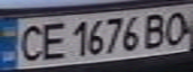1: (66, 18, 90, 57)
6: (121, 12, 148, 52), (87, 16, 109, 56)
7: (103, 15, 127, 55)
B: (139, 10, 172, 51)
C: (12, 21, 48, 63)
E: (36, 19, 69, 62)
O: (160, 8, 193, 46)
